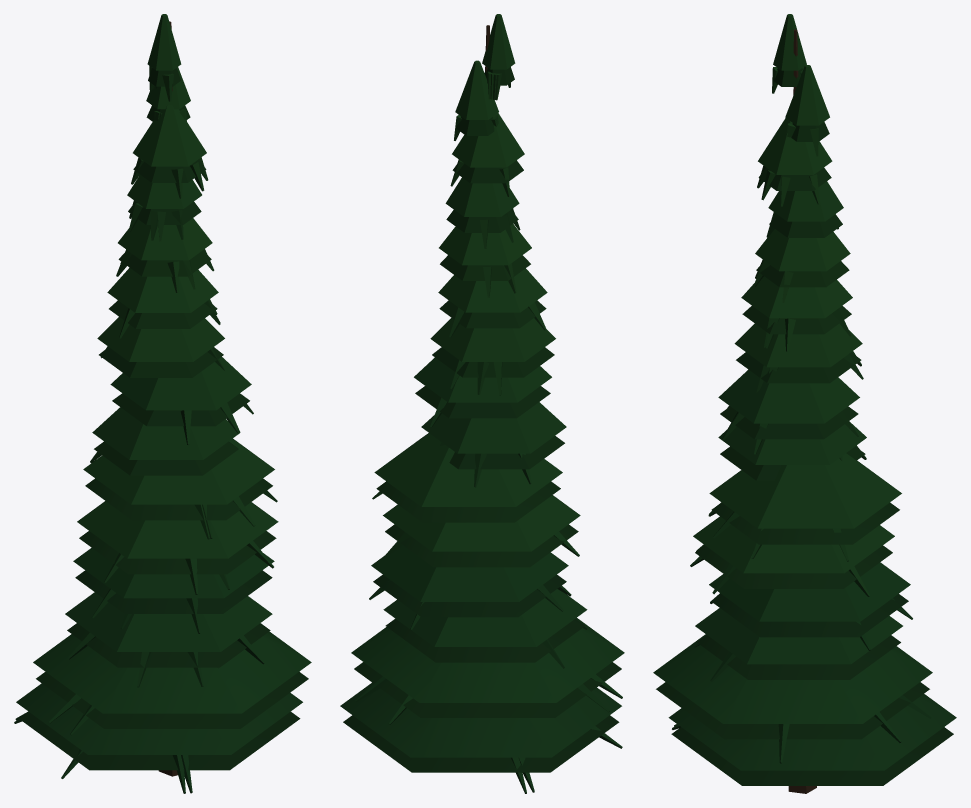
File: tree_spruce_2_mid.glb
3 views of the same model, side by side, from view 1: azimuth 30°, elevation 25°; view 2: azimuth 150°, elevation 25°; view 3: azimuth 270°, elevation 25° (orthographic). The views are drawn at different scales.
Visible parts, largest first — view 1: leaf; view 2: leaf; view 3: leaf.
Boxes of the visible parts, box(x1,y1,x2,y2) form: leaf: box(14, 14, 311, 793); leaf: box(340, 14, 624, 793); leaf: box(653, 14, 956, 785).
Size of the model in its own units: 4.73 by 13.95 by 5.02.
